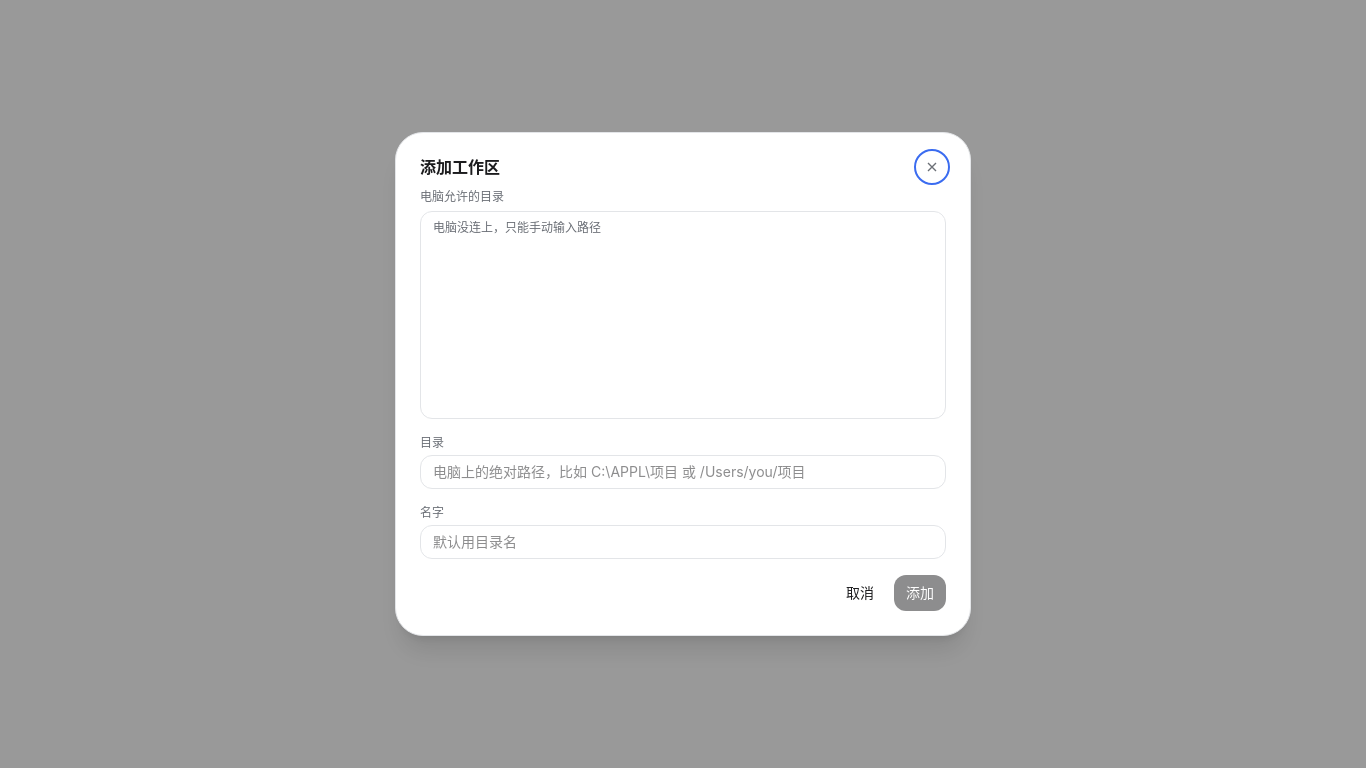
AddProjectDialog › explains an offline computer and still lets a path be typed; shows the server's reason on failure
Expected: the text "电脑没连上，只能手动输入路径" is shown, [433,220,601,235]
Expected: the button "添加" is disabled, [894,575,946,611]
Type "/Users/yi/app" into the field labelled "目录" at point(683, 472), box [420,455,946,489]
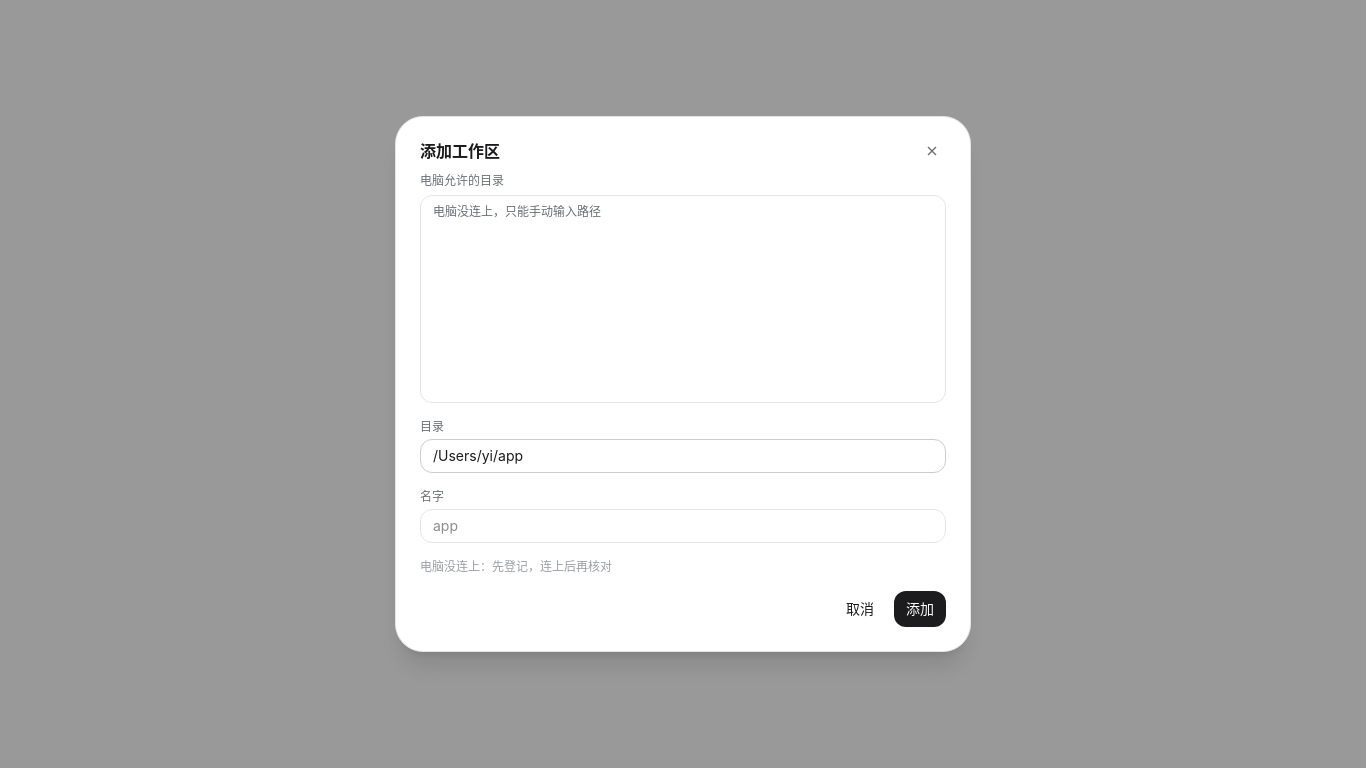
Now the text "电脑没连上：先登记，连上后再核对" is shown, box [420,559,612,574]
Click the button "添加" at point(920, 609), box [894,591,946,627]
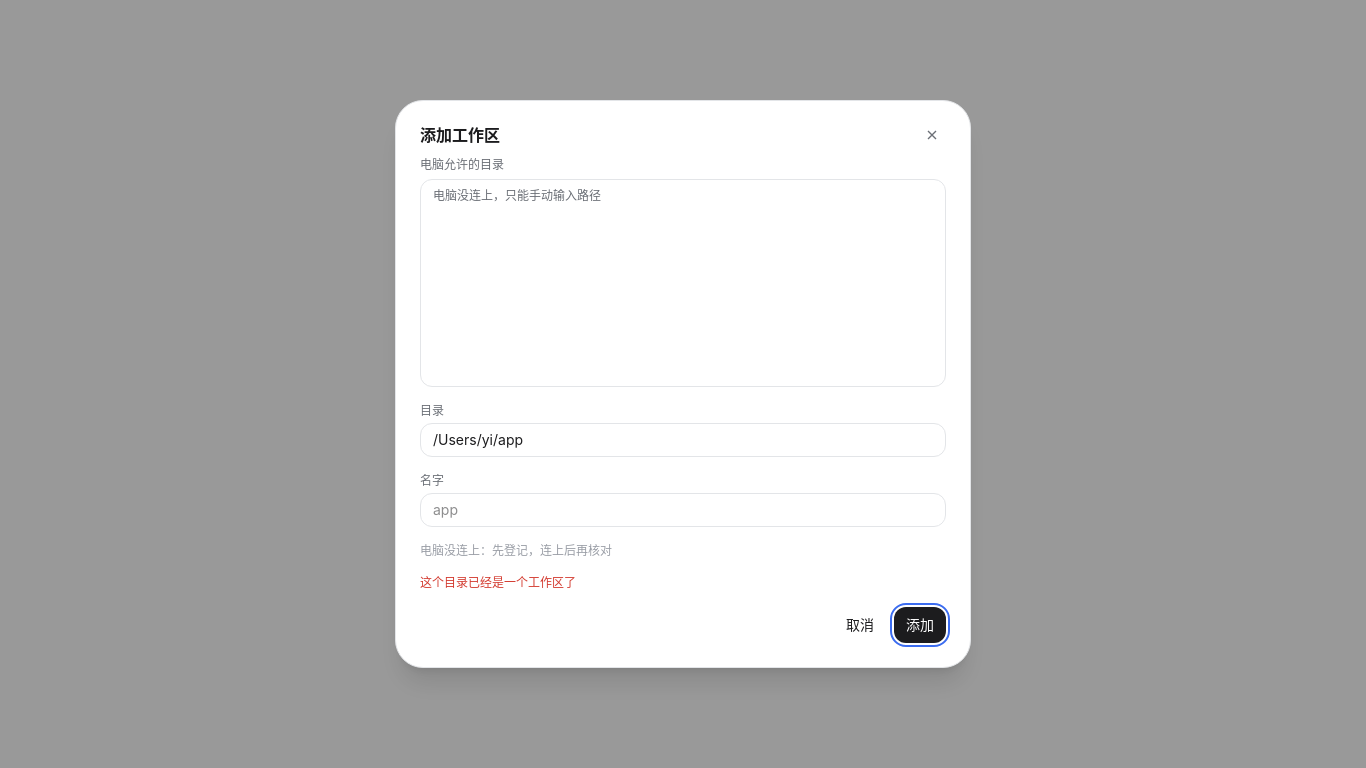
Now the message "这个目录已经是一个工作区了" is shown, box [420,575,576,590]
